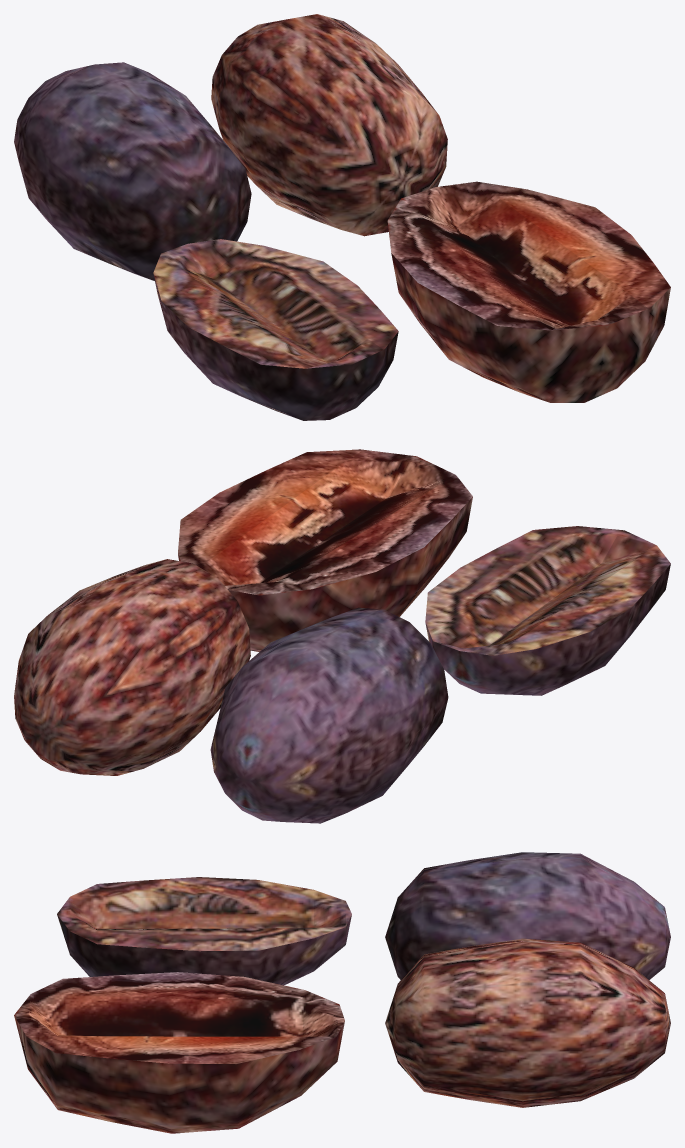
File: mugua.FBX
The picture shows the model from 3 angles, top to bottom: view 1: azimuth 30°, elevation 25°; view 2: azimuth 150°, elevation 25°; view 3: azimuth 270°, elevation 25°; orthographic projection. The views are drawn at different scales.
Parts seen in each view (by area): view 1: Sphere004, Sphere005, Sphere002, Sphere001; view 2: Sphere004, Sphere005, Sphere002, Sphere001; view 3: Sphere004, Sphere005, Sphere001, Sphere002.
Part boxes in pixels (x1,y1,x2,y2): Sphere004: (387, 181, 670, 402); Sphere005: (211, 14, 447, 236); Sphere002: (14, 62, 251, 280); Sphere001: (153, 239, 398, 420); Sphere004: (178, 449, 472, 651); Sphere005: (14, 559, 250, 775); Sphere002: (210, 607, 448, 823); Sphere001: (425, 526, 670, 695); Sphere004: (14, 972, 344, 1133); Sphere005: (385, 938, 670, 1107); Sphere001: (57, 877, 351, 985); Sphere002: (385, 852, 670, 979).
Size of the model in its own units: 36.46 by 16.06 by 54.09.
